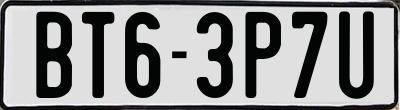3: (194, 10, 231, 101)
6: (123, 11, 164, 100)
7: (289, 11, 326, 99)
B: (35, 9, 76, 101)
P: (242, 12, 282, 100)
T: (80, 10, 116, 99)
U: (339, 9, 377, 103)
